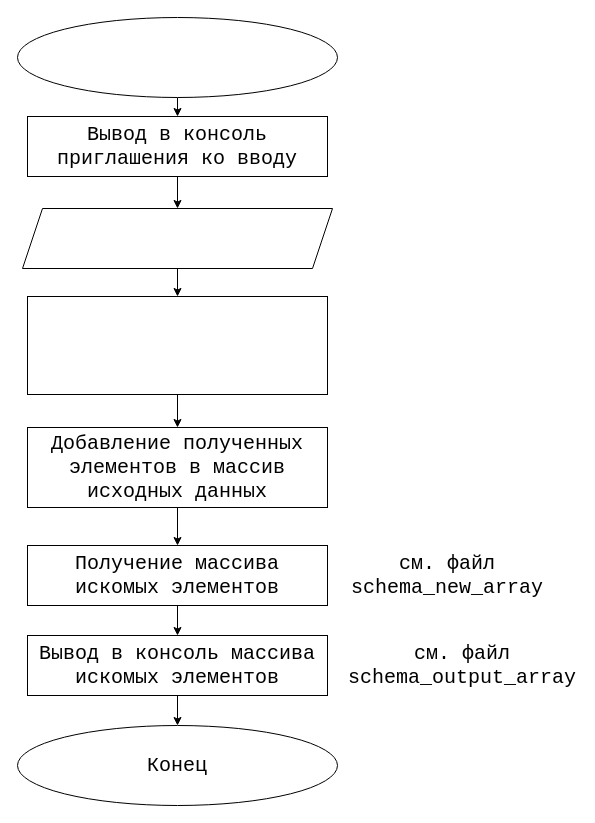
Image size: 595x823. Some labels were removed from this diagram. Each missing label, with the centre of its shape:
"Начало" goes at pixel 177 57.
"Получение текстовых данных" goes at pixel 177 238.
"Разделение полученной строки на элементы по заданному символу-разделителю" goes at pixel 177 345.
